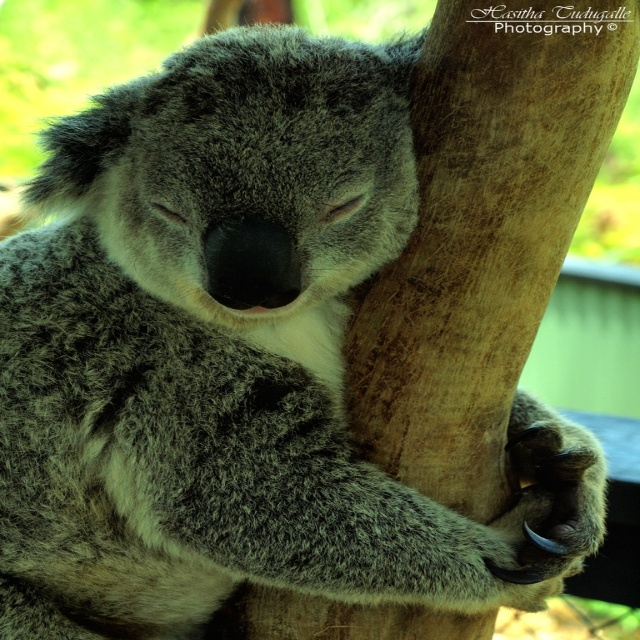Koala: (0, 16, 606, 640)
